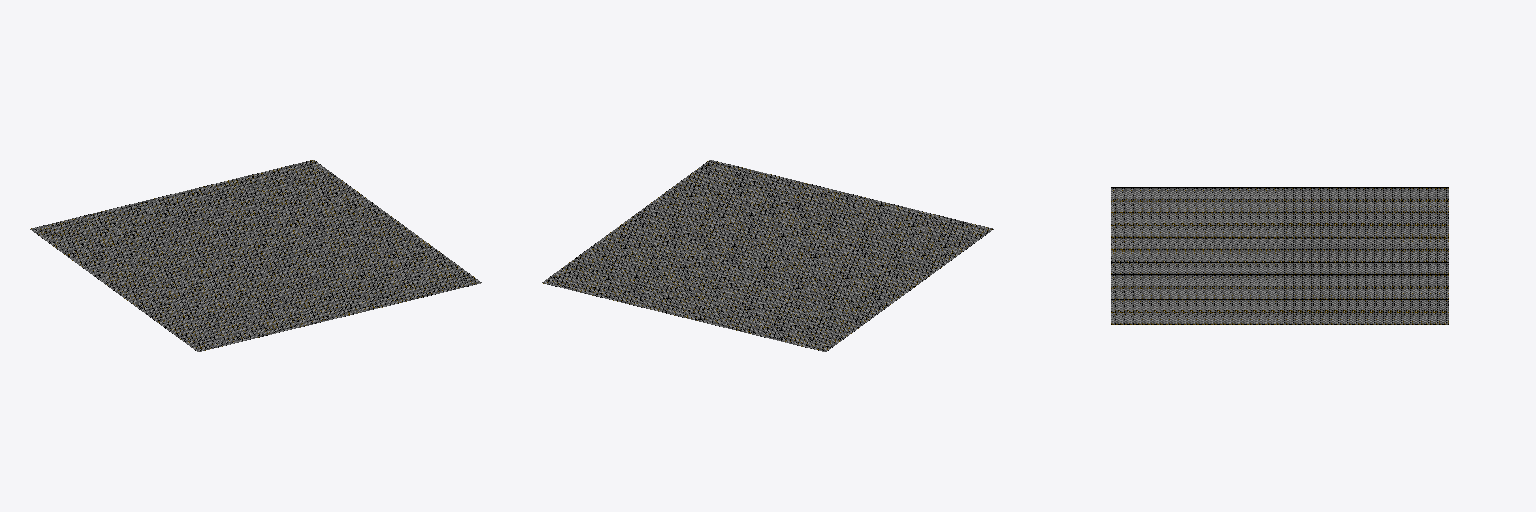
3 views of the same model, side by side, from view 1: azimuth 30°, elevation 25°; view 2: azimuth 150°, elevation 25°; view 3: azimuth 270°, elevation 25° (orthographic).
Visible parts, largest first — view 1: Quad_0; view 2: Quad_0; view 3: Quad_0.
Part boxes in pixels (x1,y1,x2,y2): Quad_0: (30,160,481,351); Quad_0: (542,160,993,351); Quad_0: (1111,187,1448,324).
Size of the model in its own units: 67.72 by 0 by 69.6.
Materials: 1 (1 with a texture image).